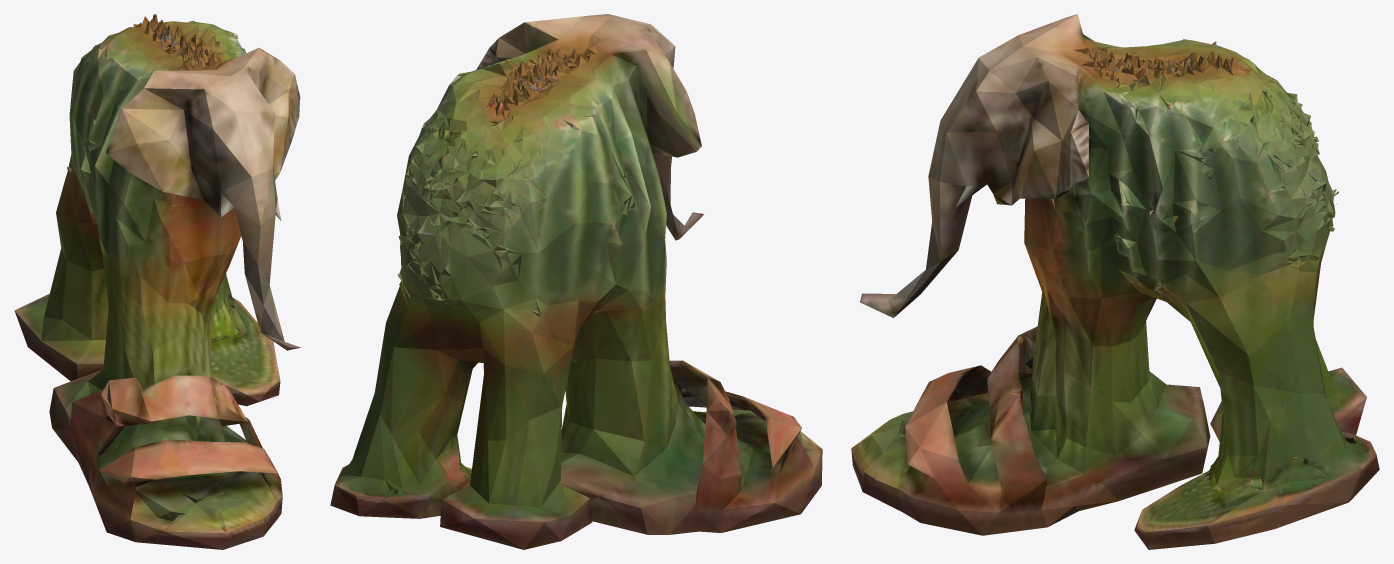
The model's file is lirili-larila.glb.
3 views of the same model, side by side, from view 1: azimuth 30°, elevation 25°; view 2: azimuth 150°, elevation 25°; view 3: azimuth 270°, elevation 25° (orthographic). The views are drawn at different scales.
Parts seen in each view (by area): view 1: Object_2; view 2: Object_2; view 3: Object_2.
Part boxes in pixels (box(x1,y1,x2,y2)): Object_2: box(14, 14, 300, 549); Object_2: box(330, 14, 822, 549); Object_2: box(851, 14, 1379, 549).
Size of the model in its own units: 1.36 by 2 by 2.01.
1 material, 1 textured.
